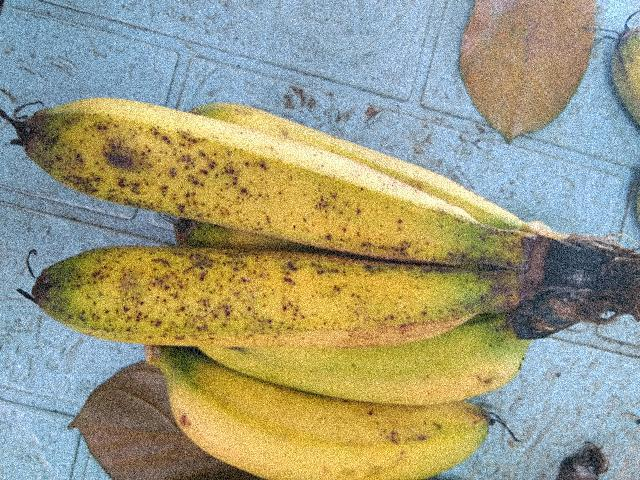ripe: (32, 88, 475, 253), (25, 223, 476, 366), (153, 372, 505, 479)
